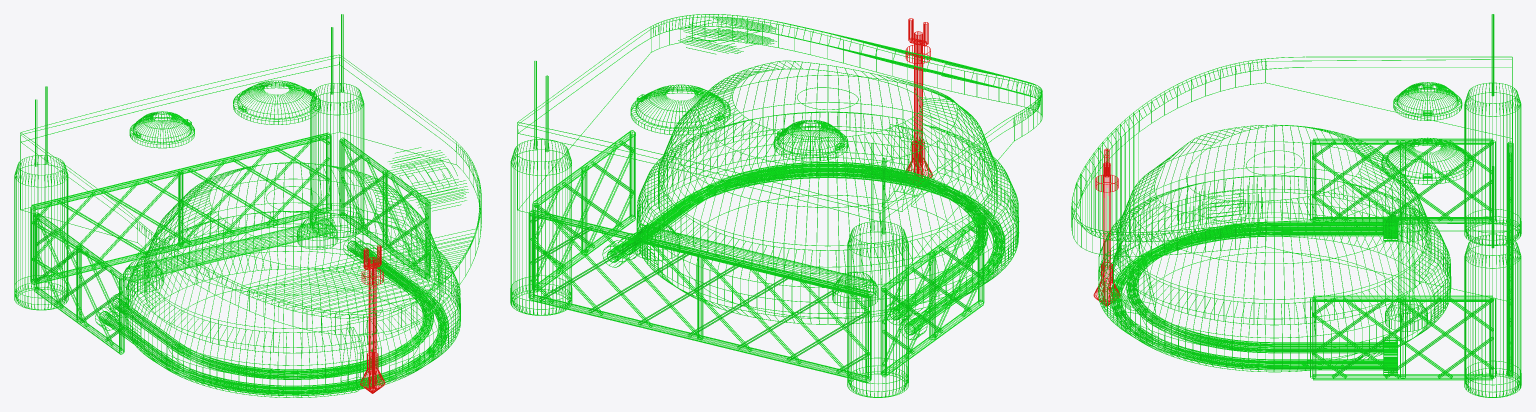
Rendered from seismic-penetrator-highlight-shaft-head-drive.glb.
The picture shows the model from 3 angles, left to right: view 1: azimuth 30°, elevation 25°; view 2: azimuth 150°, elevation 25°; view 3: azimuth 270°, elevation 25°; orthographic projection. The views are drawn at different scales.
Visible parts, largest first — view 1: chassis technical wire, ore-slurry-recovery-pipes technical wire, control-computers-and-antennae technical wire, shaft-head-drive technical wire; view 2: chassis technical wire, ore-slurry-recovery-pipes technical wire, control-computers-and-antennae technical wire, shaft-head-drive technical wire; view 3: chassis technical wire, ore-slurry-recovery-pipes technical wire, control-computers-and-antennae technical wire, shaft-head-drive technical wire.
Boxes of the visible parts, x1,y1,x2,y2 form: chassis technical wire: (14, 54, 481, 397); ore-slurry-recovery-pipes technical wire: (95, 236, 448, 396); control-computers-and-antennae technical wire: (35, 14, 343, 166); shaft-head-drive technical wire: (360, 245, 385, 393); chassis technical wire: (510, 14, 1042, 397); ore-slurry-recovery-pipes technical wire: (602, 161, 1004, 339); control-computers-and-antennae technical wire: (534, 61, 885, 234); shaft-head-drive technical wire: (905, 18, 932, 186); chassis technical wire: (1071, 56, 1521, 397); ore-slurry-recovery-pipes technical wire: (1110, 216, 1397, 375); control-computers-and-antennae technical wire: (1381, 14, 1494, 248); shaft-head-drive technical wire: (1093, 148, 1120, 306).
Bounding box in the file's own units: 2.37 × 1.4 × 2.55.
